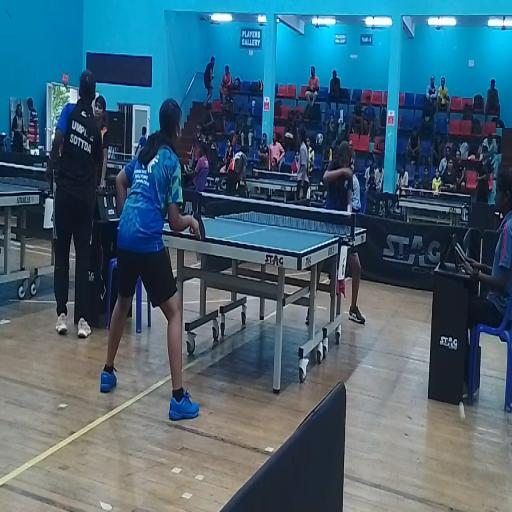ball: (347, 204, 351, 216)
